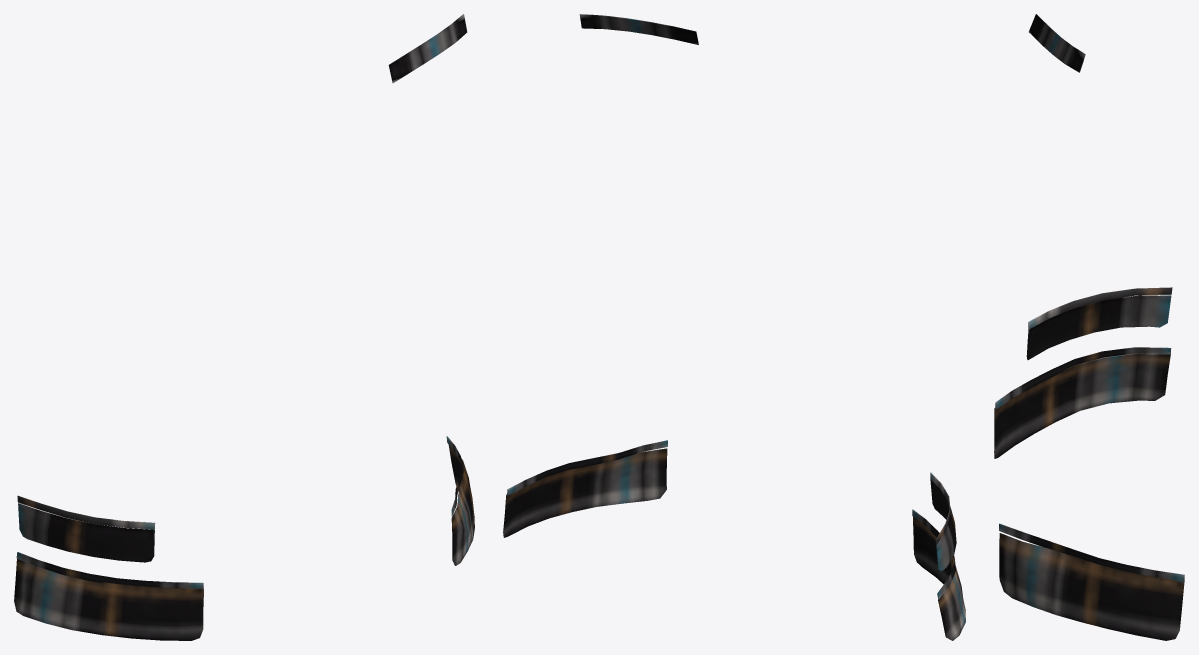
File: stdpocketwtdb.glb
3 renders of one model, left to right at view 1: azimuth 30°, elevation 25°; view 2: azimuth 150°, elevation 25°; view 3: azimuth 270°, elevation 25°, orthographic. The views are drawn at different scales.
Visible parts, largest first — view 1: pocket (×6); view 2: pocket (×5); view 3: pocket (×7).
Part boxes in pixels (box(x1,y1,x2,y2)): pocket (×6): box(14, 14, 474, 640); pocket (×5): box(503, 14, 965, 640); pocket (×7): box(994, 14, 1184, 640).
Size of the model in its own units: 348 by 383 by 116.
7 materials, 7 textured.
